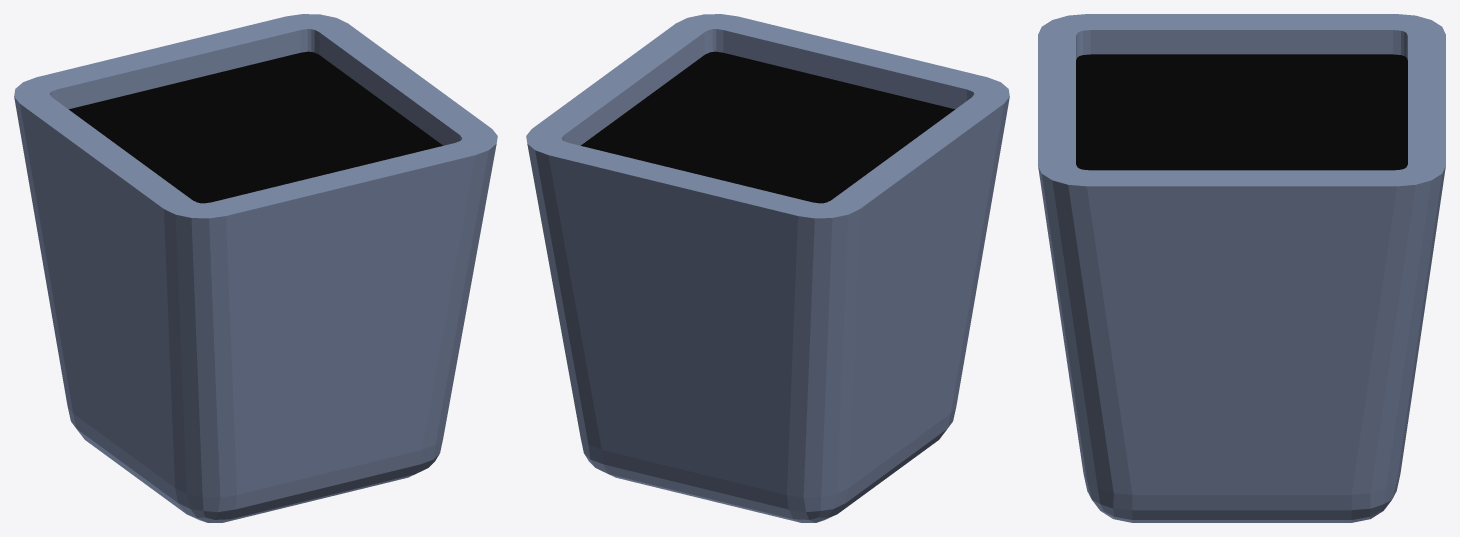
Rendered from trash_can.glb.
3 renders of one model, left to right at view 1: azimuth 30°, elevation 25°; view 2: azimuth 150°, elevation 25°; view 3: azimuth 270°, elevation 25°, orthographic. The views are drawn at different scales.
Visible parts, largest first — view 1: Cube; view 2: Cube; view 3: Cube.
Boxes of the visible parts, x1,y1,x2,y2 form: Cube: [14, 14, 497, 522]; Cube: [526, 14, 1009, 522]; Cube: [1038, 14, 1445, 522].
Bounding box in the file's own units: 0.8456 × 0.8456 × 0.8456.
